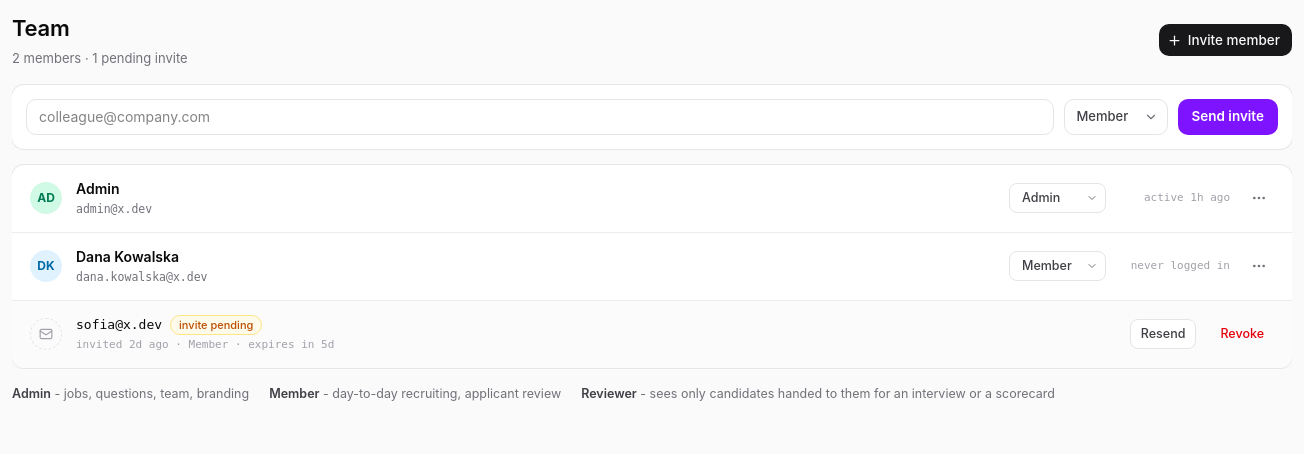
it: TeamPage › sends an invite from the invite bar
This screenshot has width=1304, height=454.
Check: the text "Dana Kowalska" is shown, box [76, 247, 179, 267]
Type "new@x.dev" into the field named "Invite email". click: (540, 116)
box: [26, 98, 1054, 134]
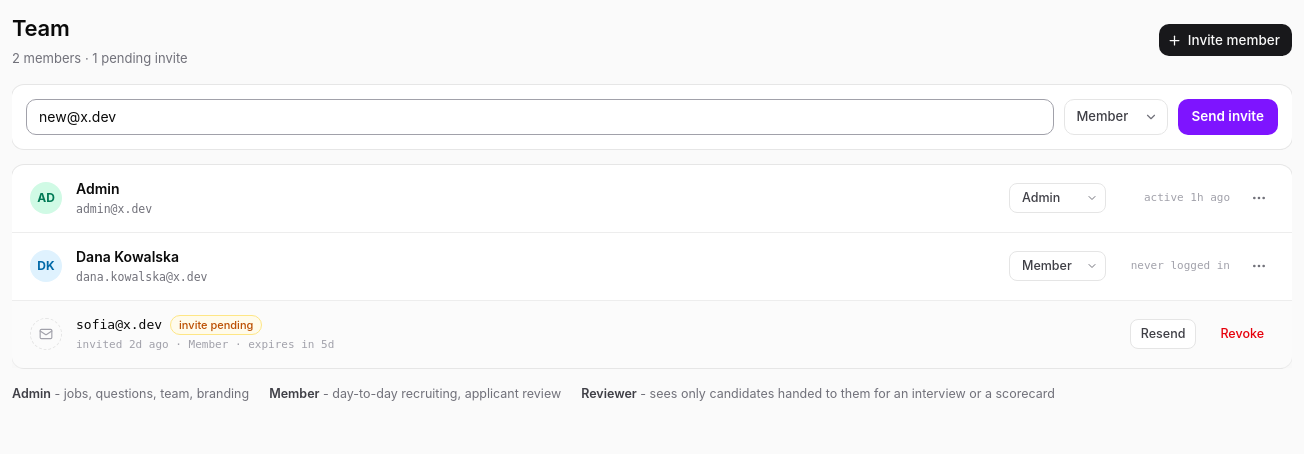
Select "Member" in the dropdown named "Invite role". click: (1116, 116)
box: [1064, 98, 1168, 134]
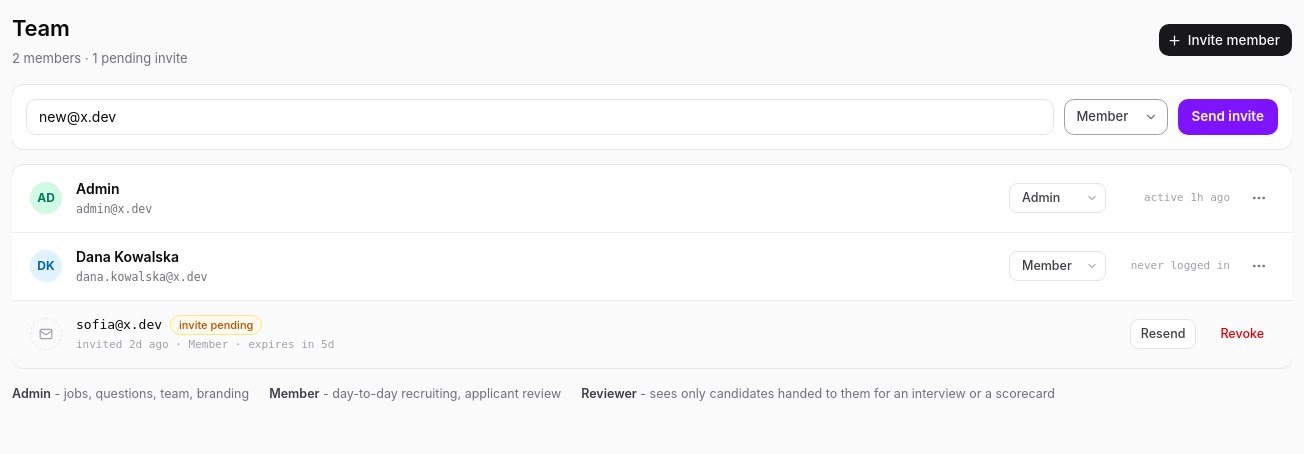
Click the button "Send invite". click: (1228, 116)
box: [1178, 98, 1278, 134]
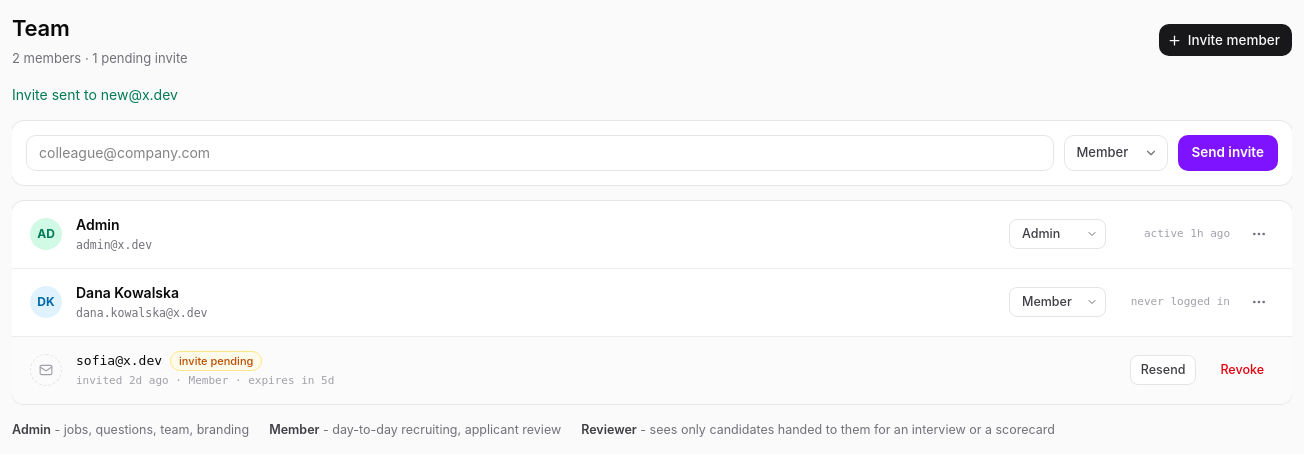
Check: the message reads "Invite sent to new@x.dev", box [12, 86, 178, 102]
